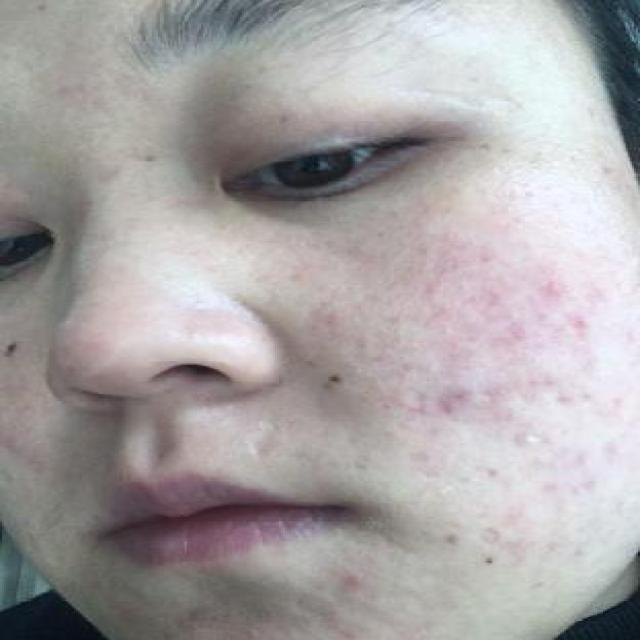blackheads: (316, 362, 359, 402), (469, 550, 506, 572)
papules: (431, 372, 490, 428), (529, 272, 581, 308), (328, 562, 376, 598)
